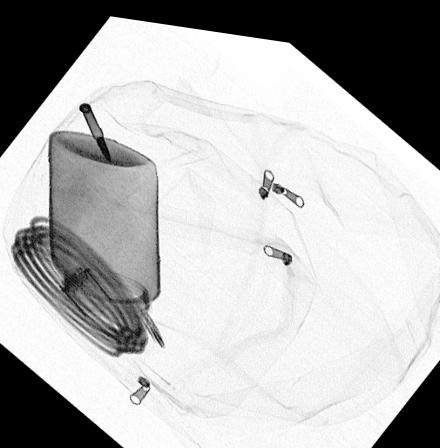Bullet: (76, 98, 111, 159)
